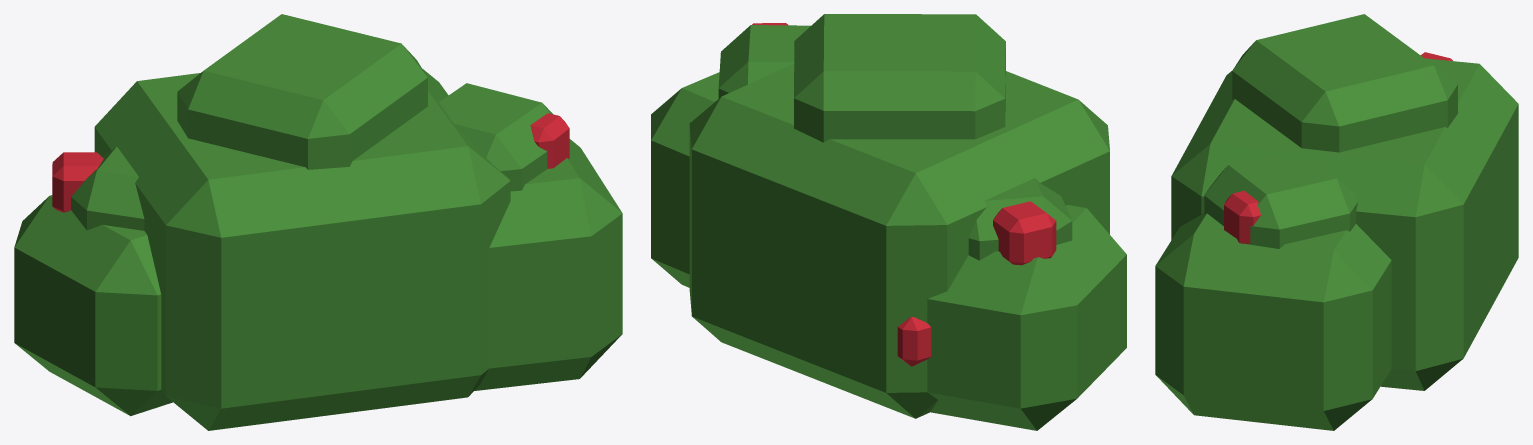
Rendered from BerryBush.fbx.
The picture shows the model from 3 angles, left to right: view 1: azimuth 30°, elevation 25°; view 2: azimuth 150°, elevation 25°; view 3: azimuth 270°, elevation 25°; orthographic projection. The views are drawn at different scales.
Parts seen in each view (by area): view 1: Bush, Berry; view 2: Bush, Berry; view 3: Bush, Berry.
Boxes of the visible parts, x1,y1,x2,y2 form: Bush: (14,14,622,430); Berry: (52,113,569,212); Bush: (651,14,1126,430); Berry: (752,23,1056,366); Bush: (1155,14,1518,430); Berry: (1224,52,1452,243).
Bounding box in the file's own units: 4.18 × 2.45 × 2.91.
